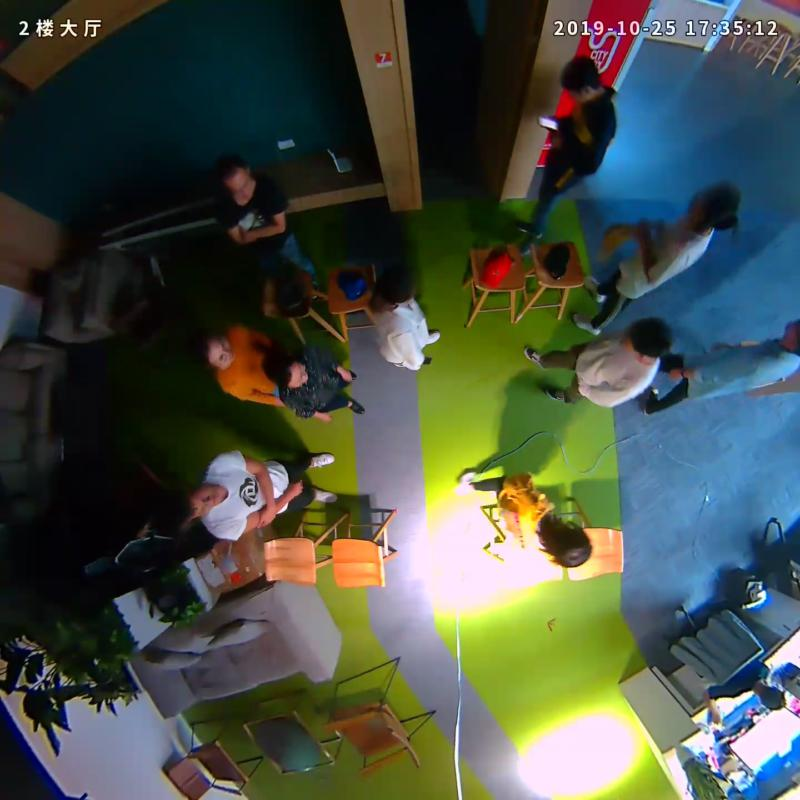head: (687, 182, 742, 230), (545, 518, 593, 567), (620, 318, 672, 363), (162, 482, 217, 524), (560, 55, 601, 105), (188, 329, 238, 370), (372, 264, 417, 307), (218, 155, 256, 200), (266, 349, 307, 388)
